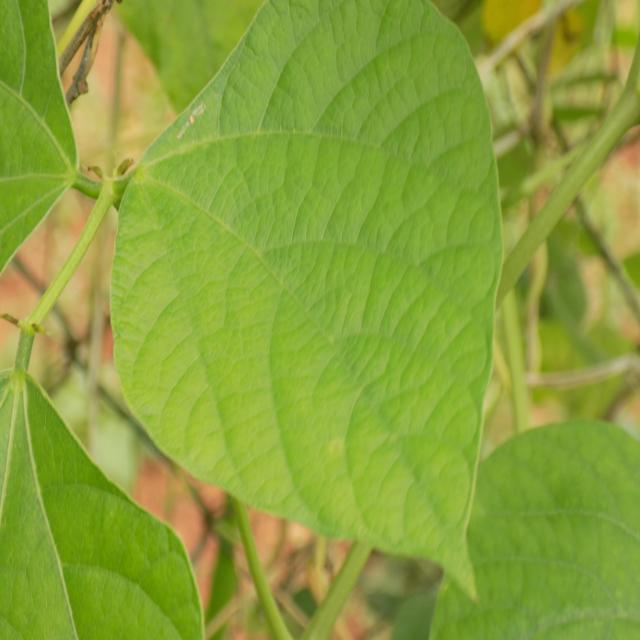Dolicos bean_healthy: (109, 0, 504, 609)
